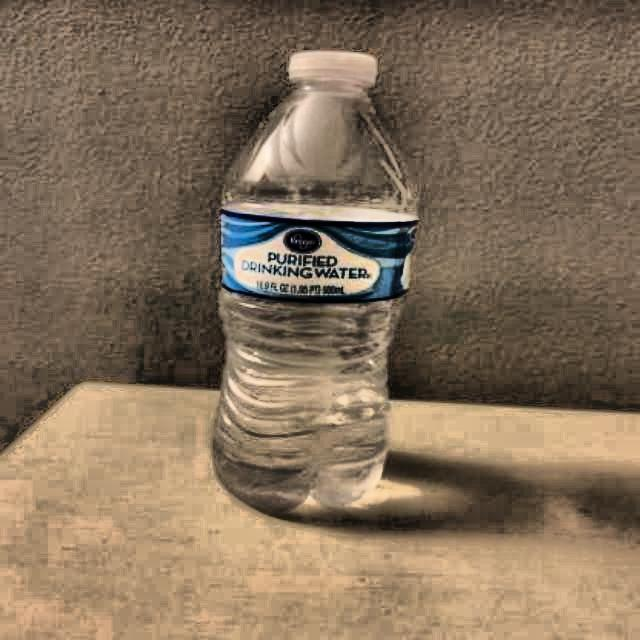Bottles: (201, 48, 414, 518)
